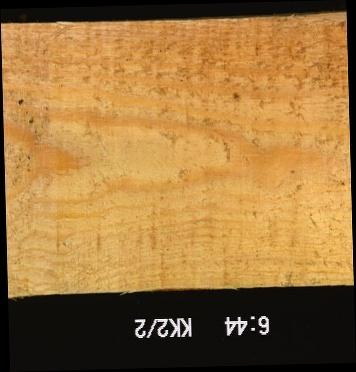small_knot: (231, 91, 241, 102)
